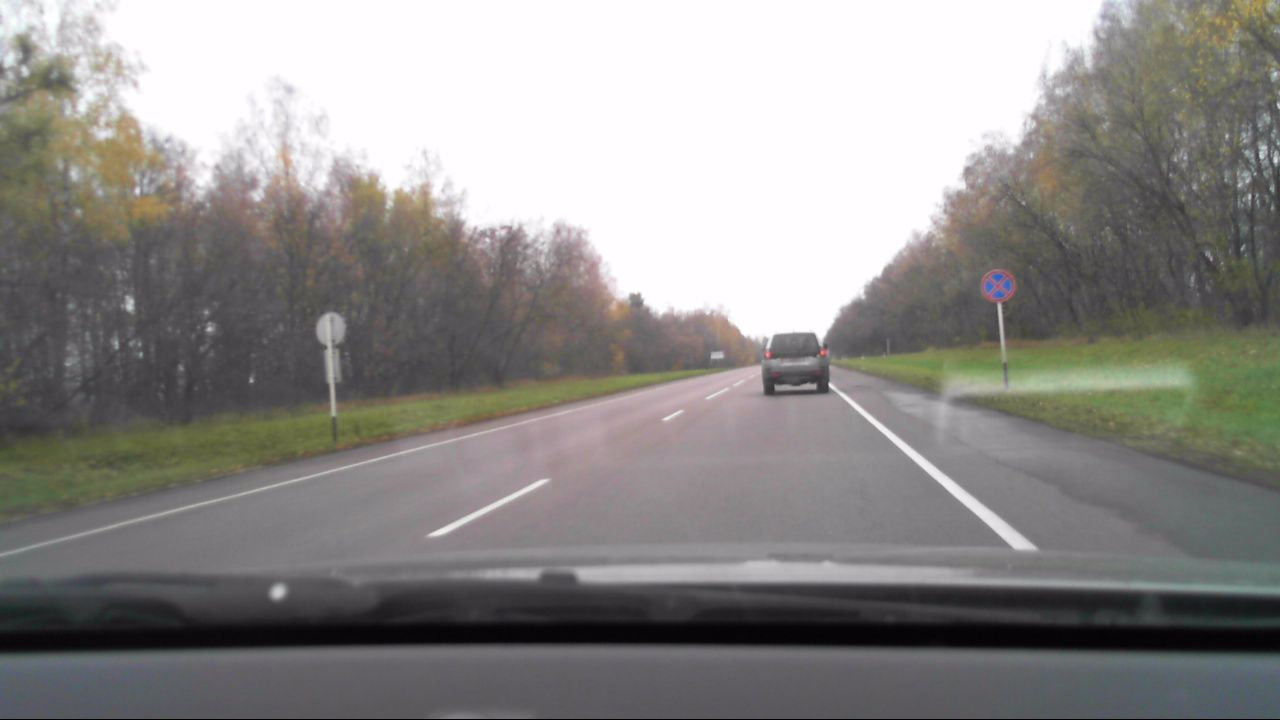No Parking: (978, 267, 1017, 304)
